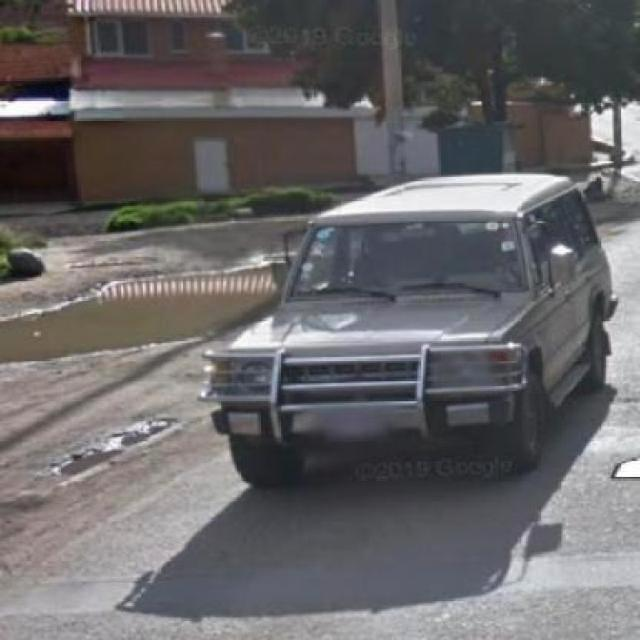car: (194, 183, 618, 474)
